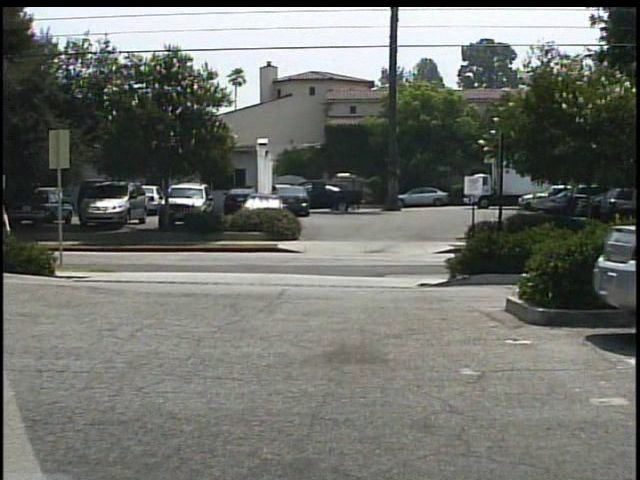person: (2, 184, 20, 291)
